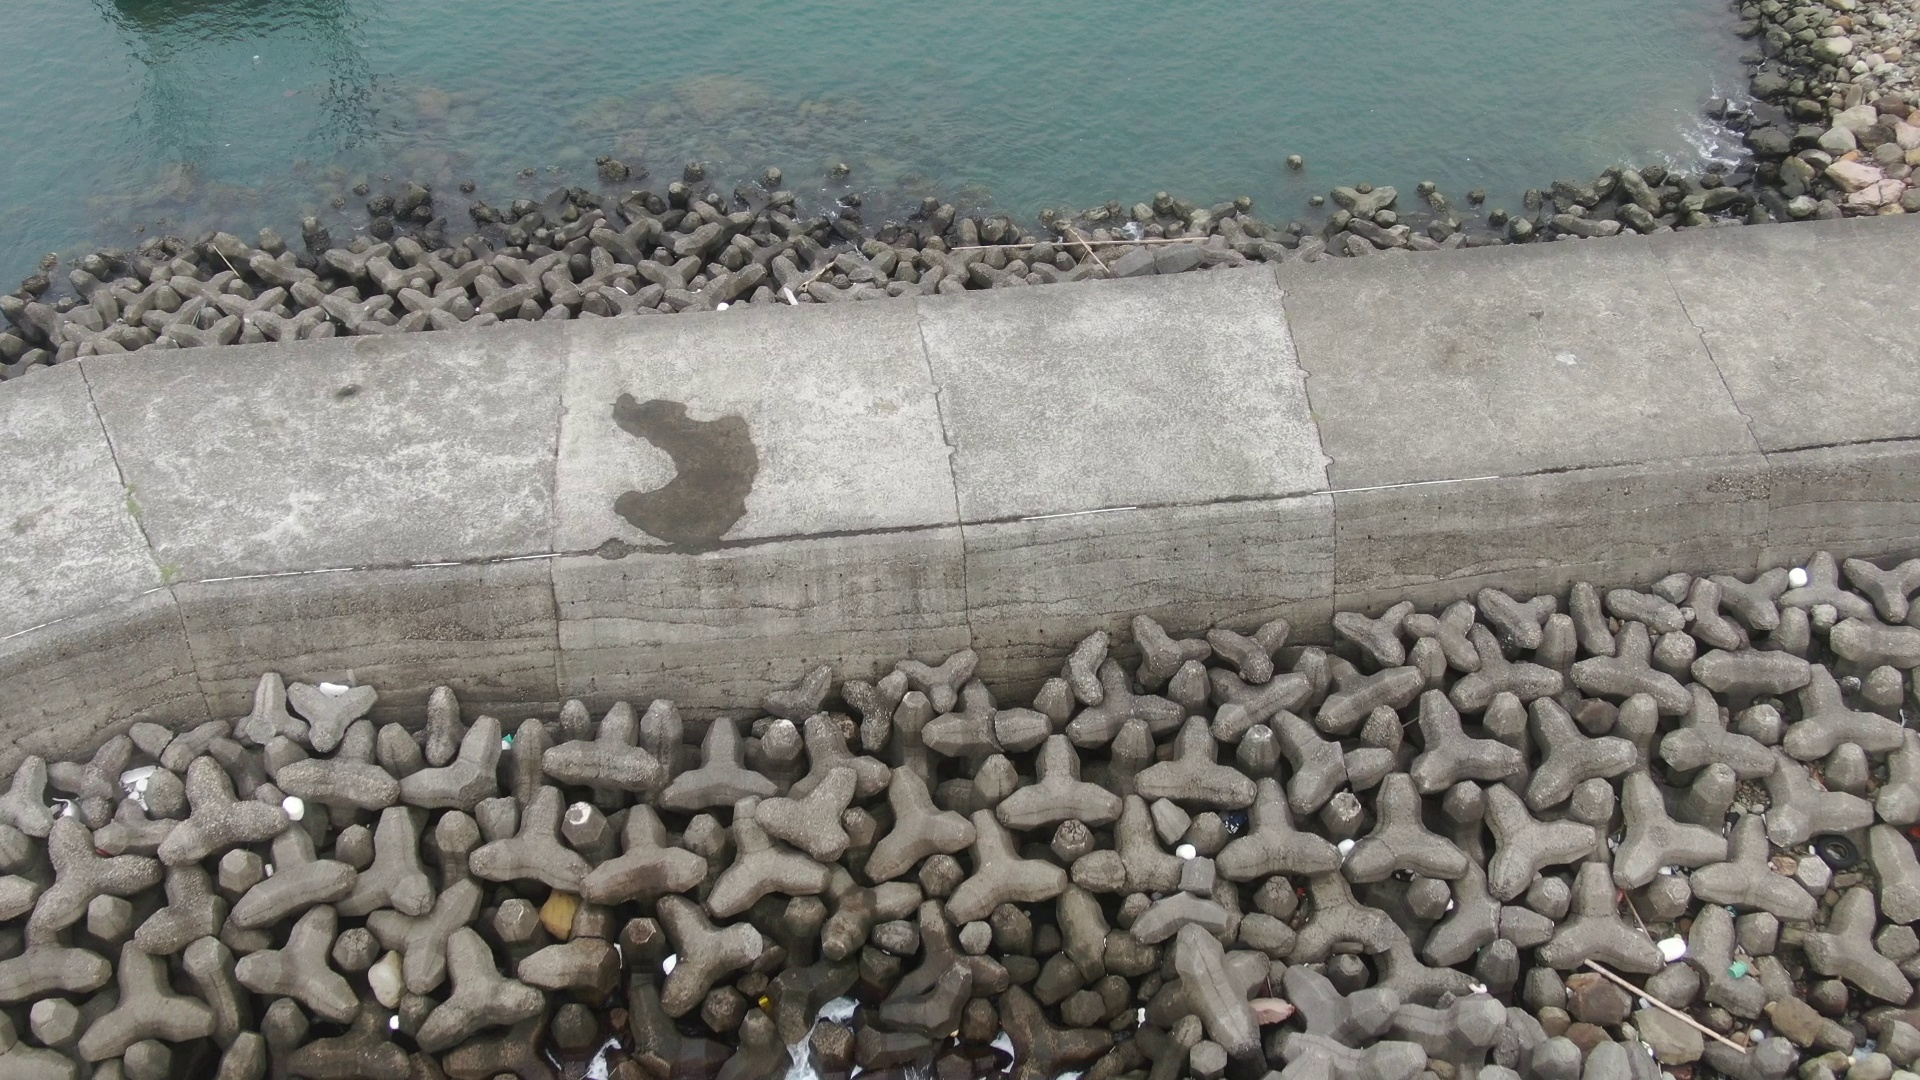garbage: (531, 876, 585, 945), (484, 717, 541, 764), (1812, 833, 1870, 874), (1650, 924, 1691, 969), (273, 793, 318, 831), (1166, 825, 1197, 876), (653, 935, 686, 976), (1778, 563, 1828, 589), (313, 674, 353, 705), (1327, 829, 1364, 862), (1127, 1002, 1156, 1035), (1725, 952, 1753, 982), (1464, 978, 1495, 1001)
